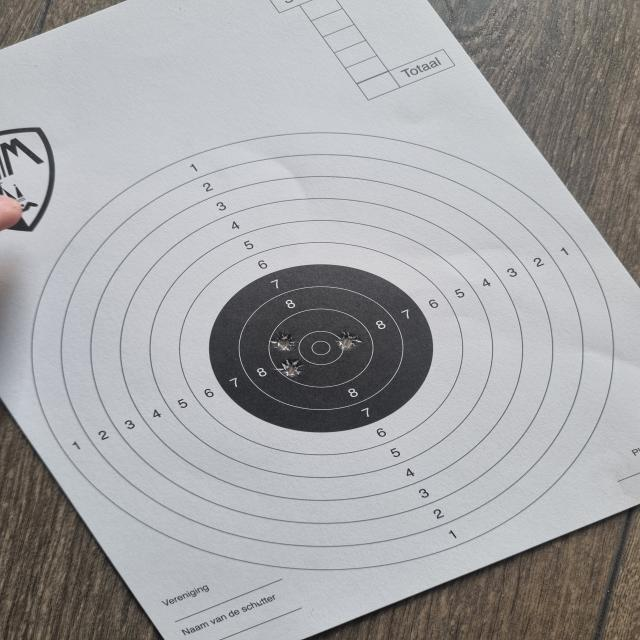10: (334, 331, 363, 350)
9: (273, 357, 305, 380), (270, 332, 296, 352)
Target: (31, 131, 614, 570)
black_contour: (209, 264, 434, 432)
